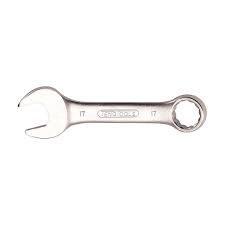Wrench: (14, 78, 204, 140)
